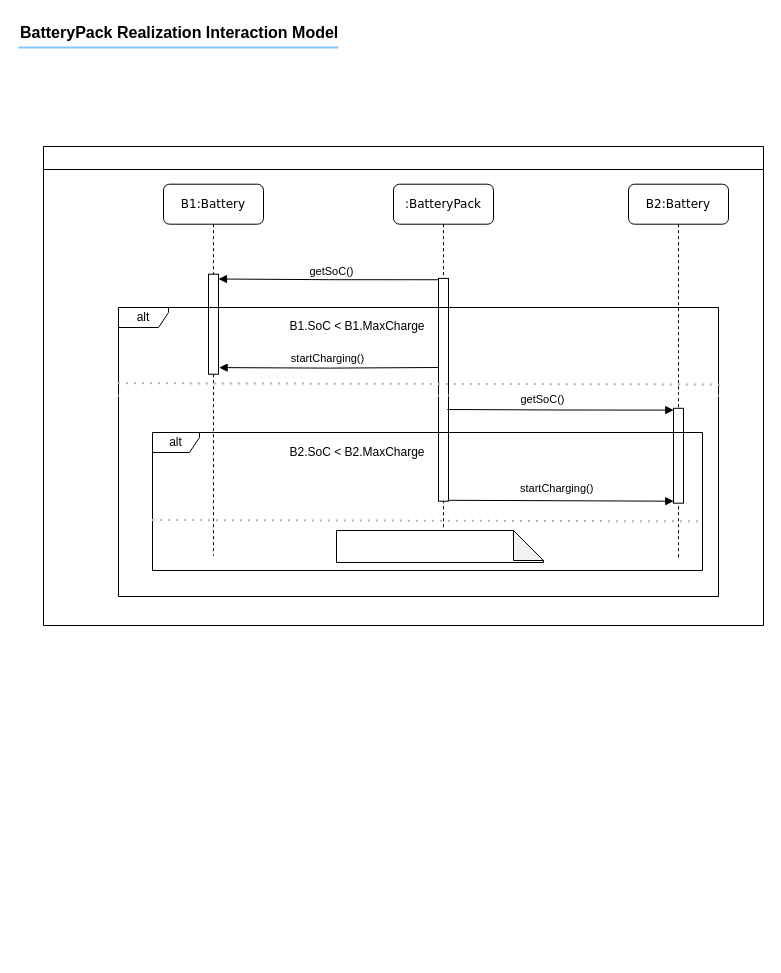
The diagram is 781 pixels wide and 973 high, and some of its shapes have lost their labels. The shapes that lost their labels are listed below. From the top down, each one's box as (x1, y1, x2, y2) in pixels, then its label:
(42, 146, 764, 626): startCharging
(336, 530, 544, 562): no battery can be charged
